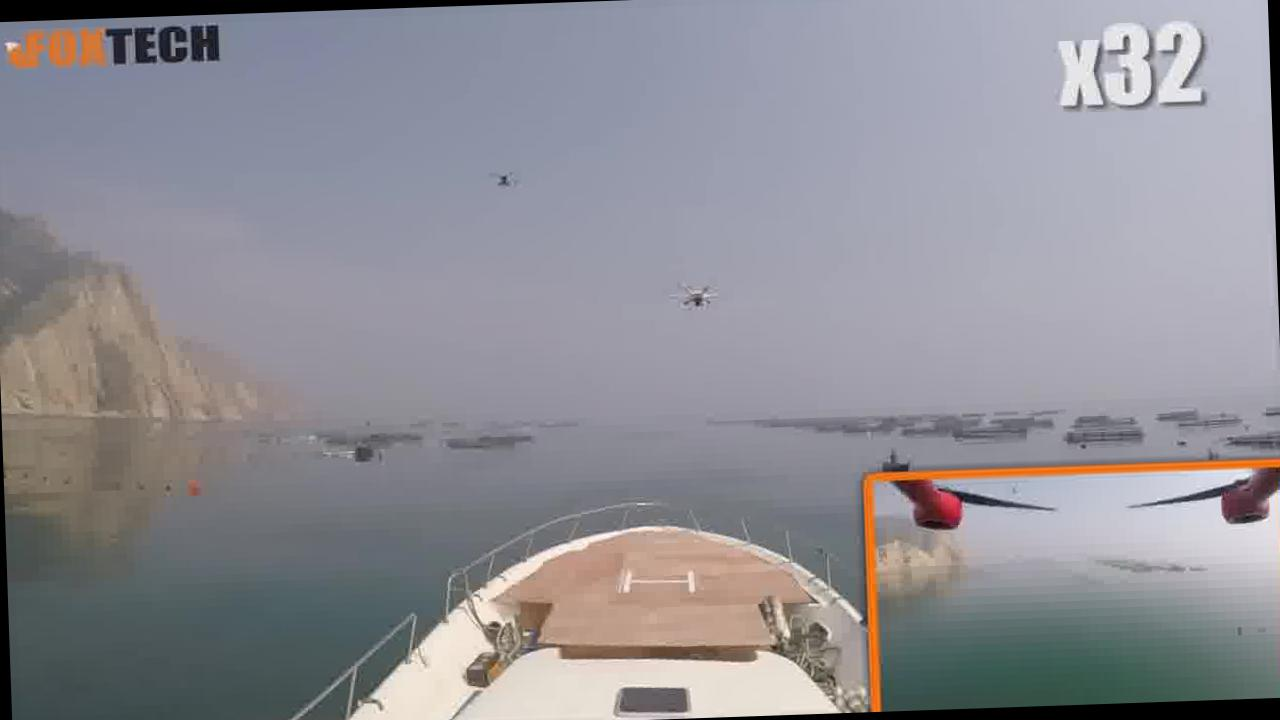drone: (656, 264, 732, 316)
